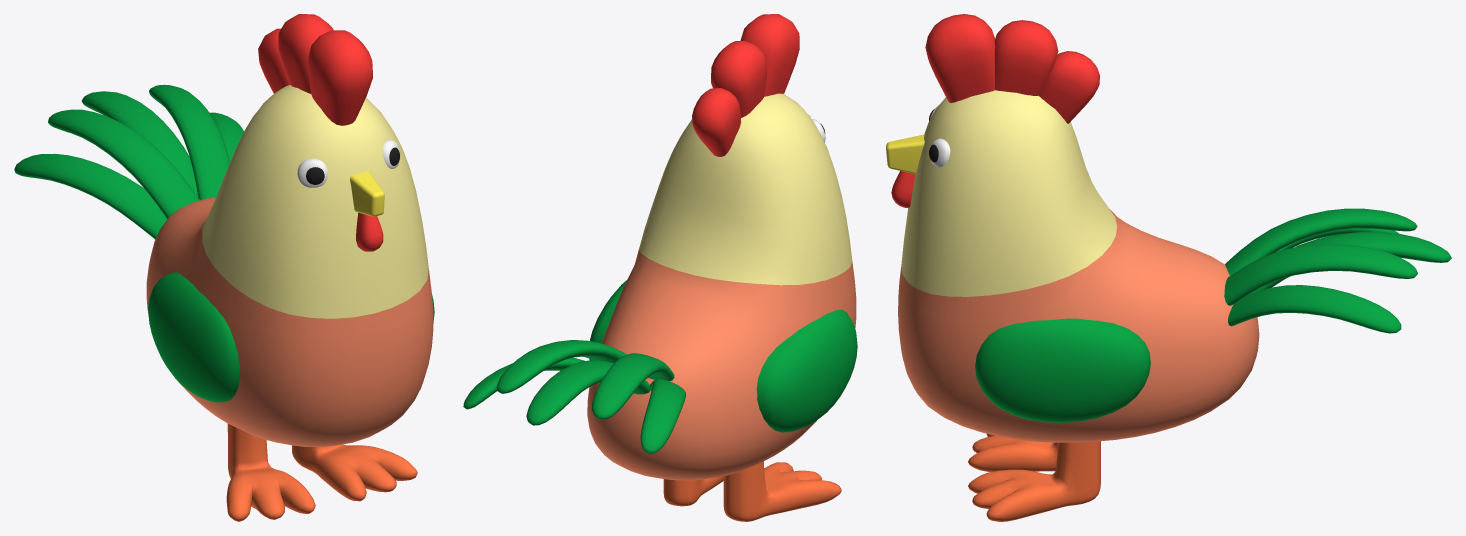
The model's file is Farm_18_Rooster_1.glb.
3 views of the same model, side by side, from view 1: azimuth 30°, elevation 25°; view 2: azimuth 150°, elevation 25°; view 3: azimuth 270°, elevation 25° (orthographic). The views are drawn at different scales.
Parts seen in each view (by area): view 1: Farm_18_Rooster_1; view 2: Farm_18_Rooster_1; view 3: Farm_18_Rooster_1.
Boxes of the visible parts, x1=… form: Farm_18_Rooster_1: x1=14, y1=14, x2=434, y2=521; Farm_18_Rooster_1: x1=463, y1=14, x2=857, y2=521; Farm_18_Rooster_1: x1=886, y1=14, x2=1451, y2=521.
Size of the model in its own units: 0.4239 by 0.8363 by 0.9173.
Materials: 1 (1 with a texture image).
